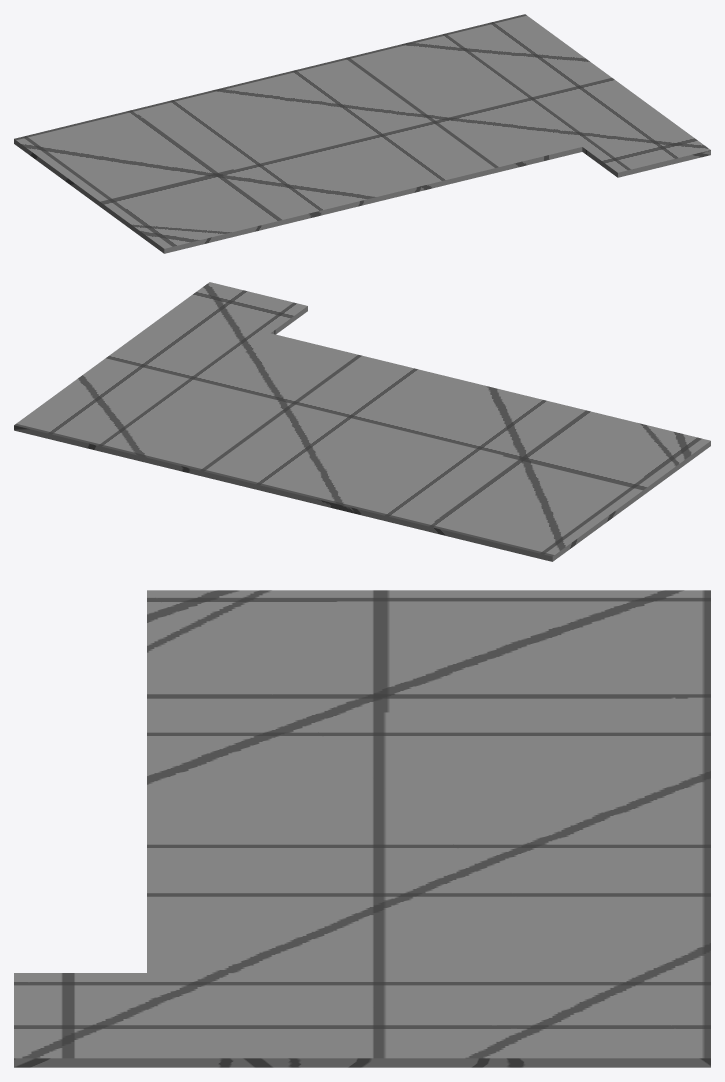
Rendered from SM_kitchenfloor.fbx.
3 views of the same model, one above another, from view 1: azimuth 30°, elevation 25°; view 2: azimuth 150°, elevation 25°; view 3: azimuth 270°, elevation 25° (orthographic). The views are drawn at different scales.
Visible parts, largest first — view 1: SM_kitchfloor; view 2: SM_kitchfloor; view 3: SM_kitchfloor.
Boxes of the visible parts, <box> form: SM_kitchfloor: <box>14,14,710,253</box>; SM_kitchfloor: <box>14,282,710,561</box>; SM_kitchfloor: <box>14,590,710,1067</box>.
Bounding box in the file's own units: 802 × 7.52 × 505.
